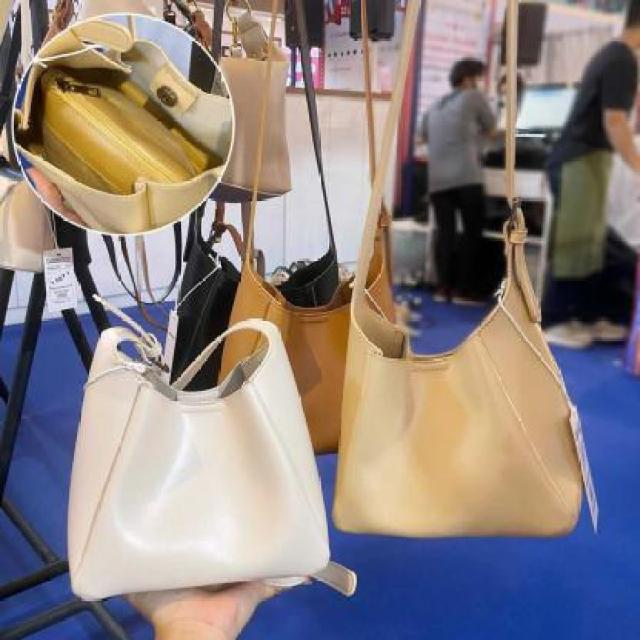Bag: (326, 0, 623, 572), (28, 299, 363, 627)
